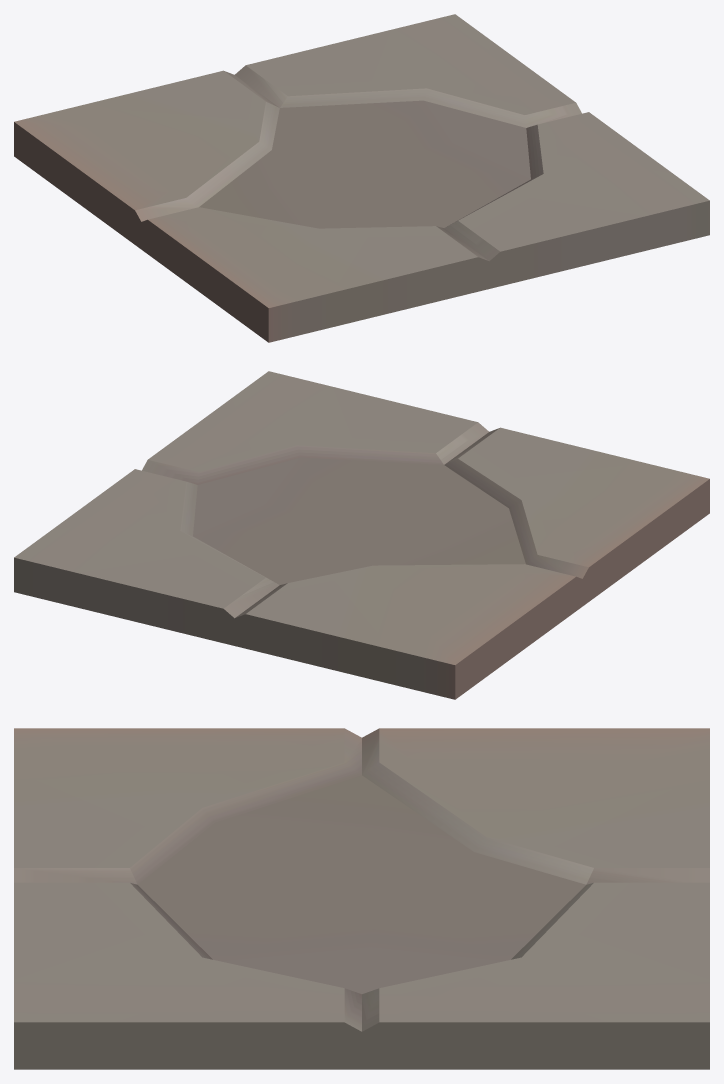
The model's file is floor_tile_small_broken_B.glb.
The picture shows the model from 3 angles, top to bottom: view 1: azimuth 30°, elevation 25°; view 2: azimuth 150°, elevation 25°; view 3: azimuth 270°, elevation 25°; orthographic projection. The views are drawn at different scales.
Visible parts, largest first — view 1: floor_tile_small_broken_B; view 2: floor_tile_small_broken_B; view 3: floor_tile_small_broken_B.
Boxes of the visible parts, x1=… form: floor_tile_small_broken_B: x1=14, y1=14, x2=709, y2=342; floor_tile_small_broken_B: x1=14, y1=371, x2=709, y2=699; floor_tile_small_broken_B: x1=14, y1=728, x2=709, y2=1069.
Bounding box in the file's own units: 2 × 0.1499 × 2.
1 material, 1 textured.
